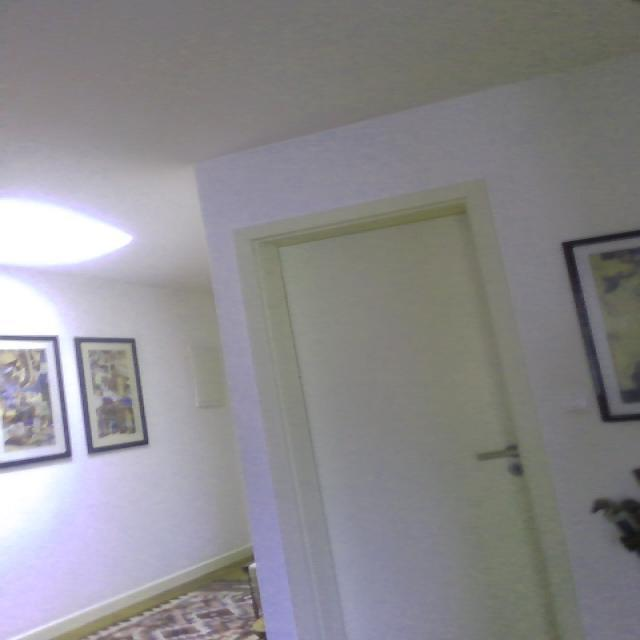door: (235, 180, 584, 638)
